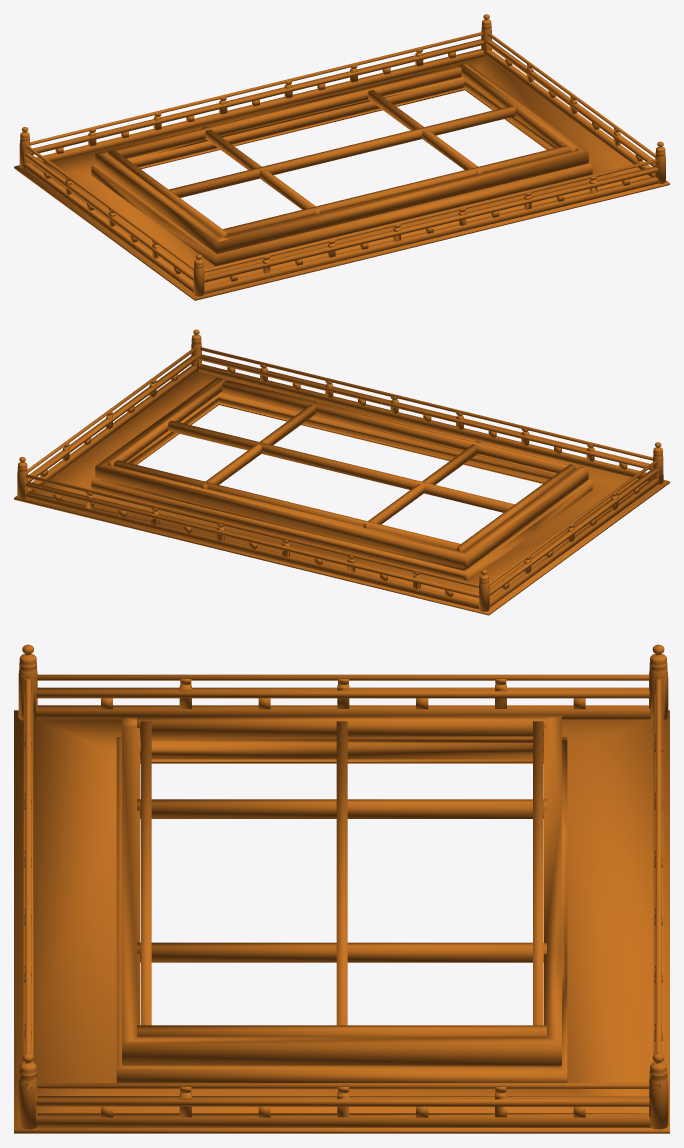
File: building_explode_06.glb
3 renders of one model, top to bottom at view 1: azimuth 30°, elevation 25°; view 2: azimuth 150°, elevation 25°; view 3: azimuth 270°, elevation 25°, orthographic. The views are drawn at different scales.
Visible parts, largest first — view 1: full_building.006; view 2: full_building.006; view 3: full_building.006.
Boxes of the visible parts, x1=… form: full_building.006: x1=14, y1=14, x2=669, y2=300; full_building.006: x1=14, y1=329, x2=669, y2=615; full_building.006: x1=14, y1=644, x2=669, y2=1133.
Size of the model in its own units: 3.86 by 0.3264 by 2.55.
